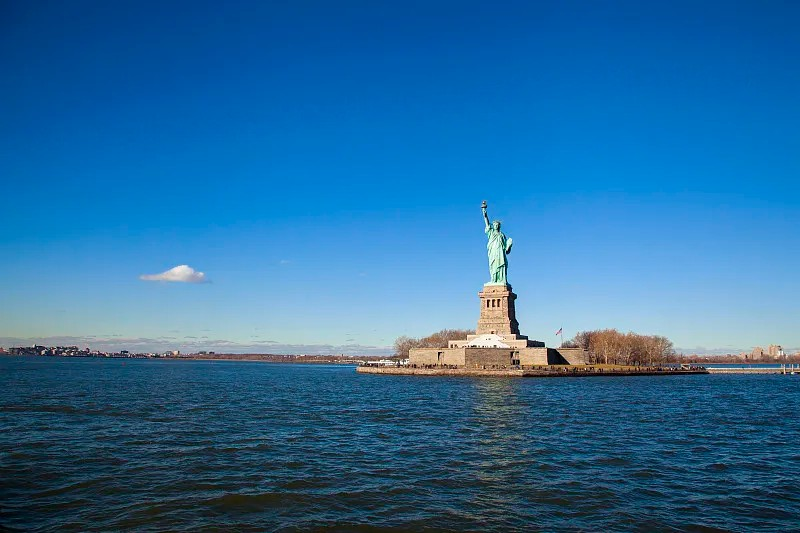SL: (475, 201, 520, 333)
